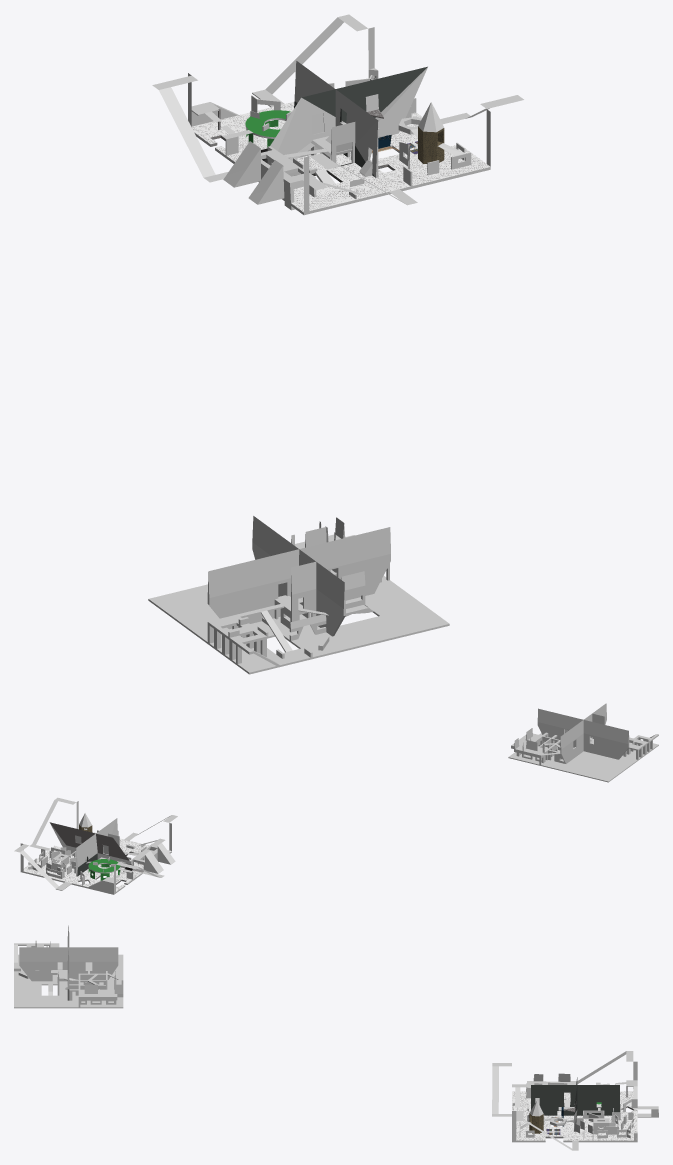
The model's file is FPSmap2.dae.
The picture shows the model from 3 angles, top to bottom: view 1: azimuth 30°, elevation 25°; view 2: azimuth 150°, elevation 25°; view 3: azimuth 270°, elevation 25°; orthographic projection. The views are drawn at different scales.
Visible parts, largest first — view 1: SketchUp (×6); view 2: SketchUp (×6); view 3: SketchUp (×4).
Boxes of the visible parts, x1,y1,x2,y2 form: SketchUp (×6): (148, 14, 523, 674); SketchUp (×6): (14, 703, 658, 894); SketchUp (×4): (14, 925, 658, 1150).
Size of the model in its own units: 14276 by 19927 by 1312.
